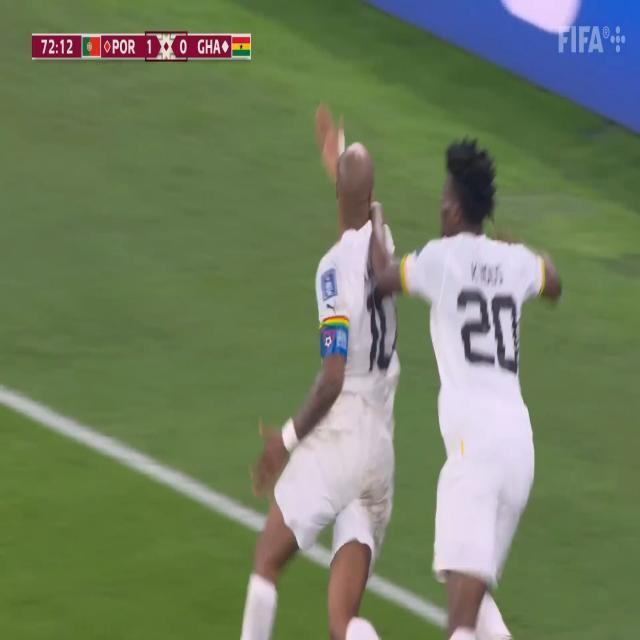player: (238, 100, 413, 640), (419, 111, 566, 640)
